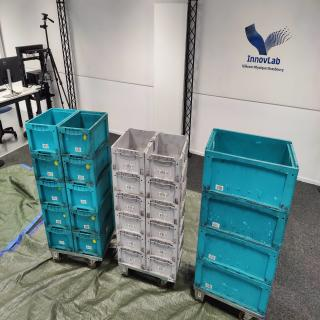Box8G: (146, 132, 191, 185), (112, 129, 155, 178), (146, 162, 190, 209), (147, 183, 189, 227), (148, 220, 187, 265), (147, 205, 189, 246), (148, 236, 186, 281), (112, 170, 148, 200), (113, 191, 148, 219), (116, 228, 147, 255), (118, 247, 148, 273), (115, 214, 147, 237)
BoxB4: (202, 128, 301, 215), (200, 191, 291, 254), (196, 224, 282, 288), (194, 258, 275, 320)
BoxB8: (58, 111, 109, 161), (63, 139, 113, 190), (24, 108, 77, 156), (68, 168, 116, 214), (75, 213, 114, 262), (72, 193, 114, 238), (40, 204, 74, 234), (44, 229, 76, 258), (33, 154, 66, 182), (37, 183, 70, 209)
